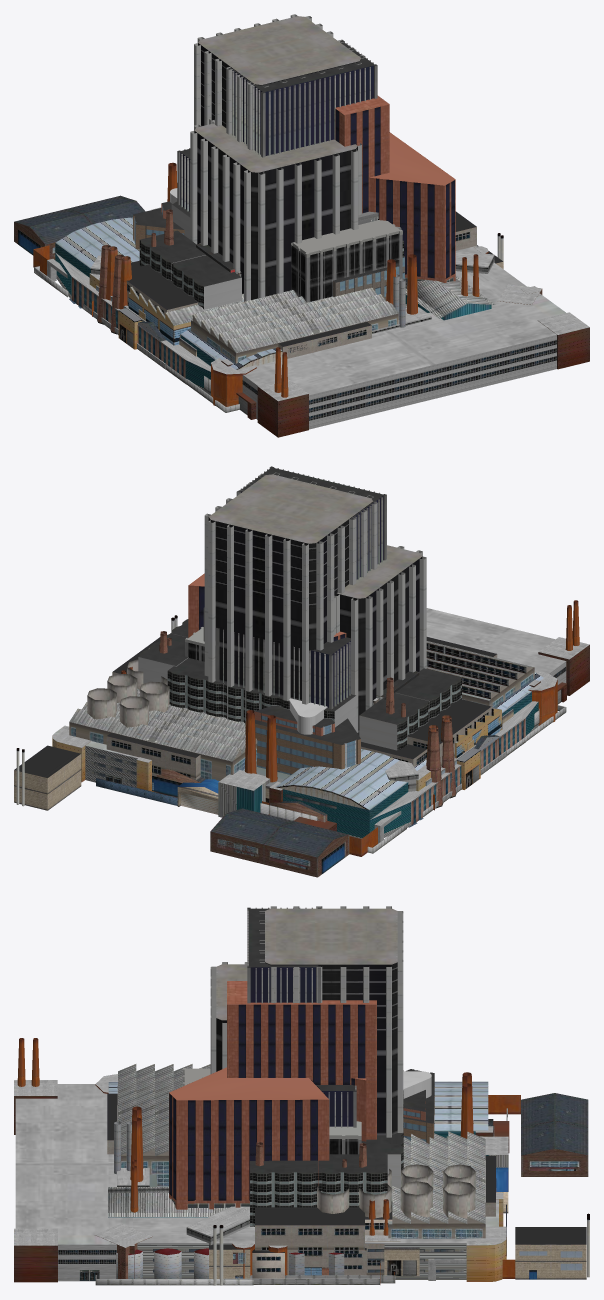
File: city_lib.glb
The picture shows the model from 3 angles, top to bottom: view 1: azimuth 30°, elevation 25°; view 2: azimuth 150°, elevation 25°; view 3: azimuth 270°, elevation 25°; orthographic projection. The views are drawn at different scales.
Visible parts, largest first — view 1: ind_ind_ind_ind_ind_ind_ind_ind_ind_ind_ind_ind_ind_ind_ind_ (×7), ind_off_b328, ind_off_b064, ind_off_b303, ind_off_b212, ind_off_b107, ind_off_b131, ind_off_b237, ind_off_b052; view 2: ind_ind_ind_ind_ind_ind_ind_ind_ind_ind_ind_ind_ind_ind_ind_ (×7), ind_off_b064, ind_off_b328, ind_off_b303, ind_off_b052, ind_off_b212, ind_off_b237, ind_off_b051; view 3: ind_ind_ind_ind_ind_ind_ind_ind_ind_ind_ind_ind_ind_ind_ind_ (×8), ind_off_b303, ind_off_b064, ind_off_b131, ind_off_b328, ind_off_b212, ind_off_b108, ind_off_b051, ind_off_b237, ind_off_b100.
Part boxes in pixels (x1,y1,x2,y2): ind_ind_ind_ind_ind_ind_ind_ind_ind_ind_ind_ind_ind_ind_ind_ (×7): [14, 162, 589, 437]; ind_off_b328: [139, 120, 405, 309]; ind_off_b064: [194, 14, 401, 229]; ind_off_b303: [133, 132, 455, 282]; ind_off_b212: [228, 40, 377, 157]; ind_off_b107: [291, 220, 402, 302]; ind_off_b131: [335, 95, 389, 213]; ind_off_b237: [170, 188, 404, 300]; ind_off_b052: [177, 148, 190, 213]; ind_ind_ind_ind_ind_ind_ind_ind_ind_ind_ind_ind_ind_ind_ind_ (×7): [14, 600, 589, 877]; ind_off_b064: [204, 472, 377, 720]; ind_off_b328: [138, 545, 461, 750]; ind_off_b303: [188, 573, 360, 774]; ind_off_b052: [216, 628, 350, 709]; ind_off_b212: [236, 466, 386, 580]; ind_off_b237: [289, 698, 327, 734]; ind_off_b051: [185, 627, 419, 699]; ind_ind_ind_ind_ind_ind_ind_ind_ind_ind_ind_ind_ind_ind_ind_ (×8): [14, 1038, 589, 1285]; ind_off_b303: [169, 1067, 434, 1209]; ind_off_b064: [259, 906, 403, 1137]; ind_off_b131: [227, 981, 376, 1139]; ind_off_b328: [210, 962, 403, 1226]; ind_off_b212: [247, 907, 320, 1003]; ind_off_b108: [316, 1085, 356, 1127]; ind_off_b051: [329, 1121, 361, 1154]; ind_off_b237: [403, 1071, 431, 1098]; ind_off_b100: [351, 1078, 366, 1141].
Size of the model in its own units: 95.16 by 65.77 by 131.
Materials: 2 (2 with a texture image).
